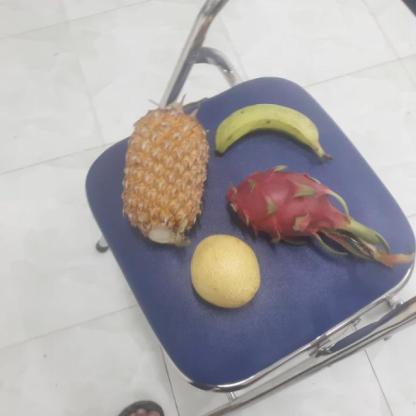banana: (213, 104, 321, 158)
pear: (186, 237, 262, 309)
pineapple: (119, 110, 211, 246)
pitaya: (222, 170, 340, 245)
